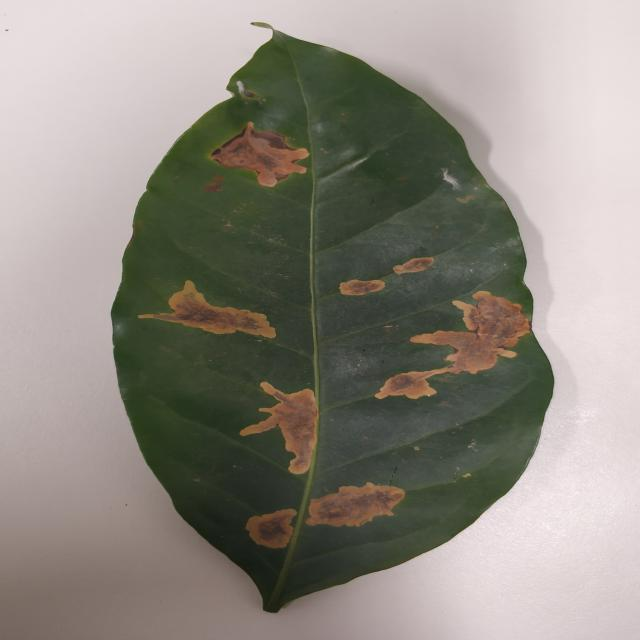Plaga-Minador: (109, 23, 555, 616)
